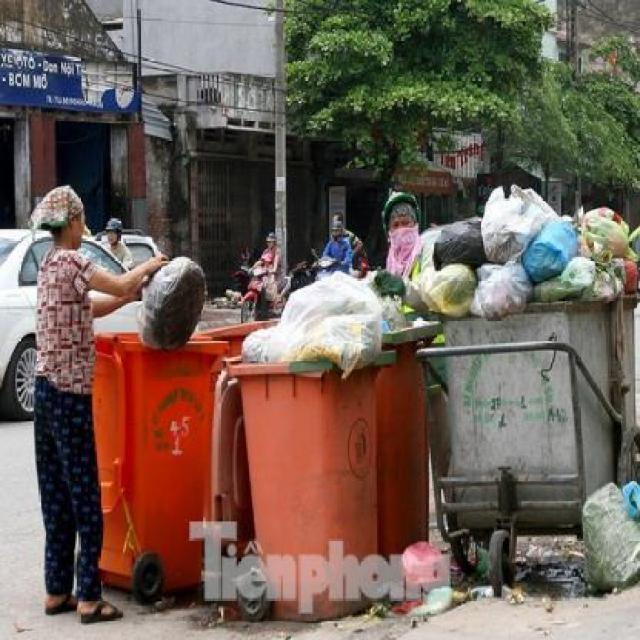plastic bag: (398, 174, 638, 320), (237, 276, 392, 366), (572, 479, 640, 606), (137, 248, 211, 363), (571, 202, 637, 272), (409, 255, 478, 311)
